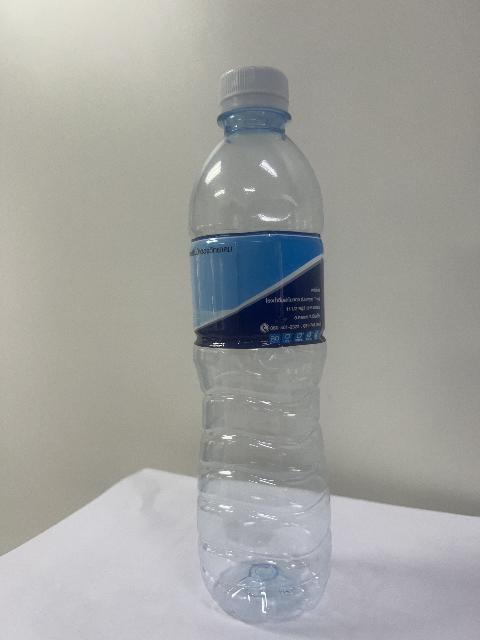bottle: (190, 67, 330, 622)
